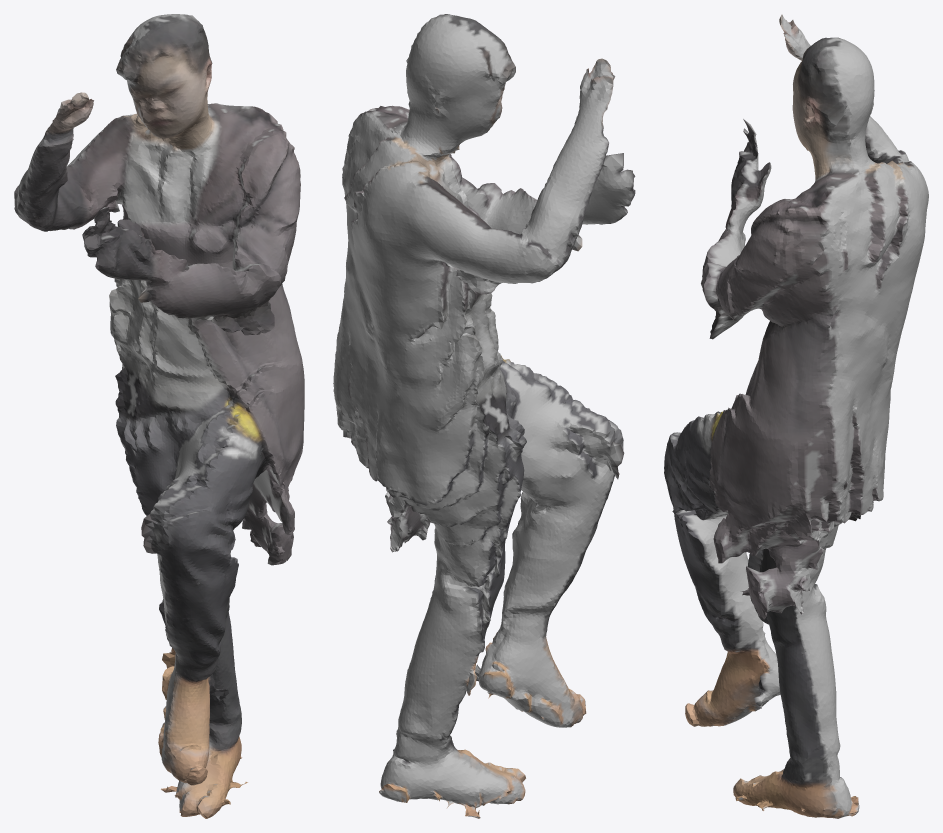
Rendered from 0002_view_elev+00_00_textured.glb.
3 views of the same model, side by side, from view 1: azimuth 30°, elevation 25°; view 2: azimuth 150°, elevation 25°; view 3: azimuth 270°, elevation 25° (orthographic). The views are drawn at different scales.
Visible parts, largest first — view 1: 0002_view_elev+00_00_merged.obj; view 2: 0002_view_elev+00_00_merged.obj; view 3: 0002_view_elev+00_00_merged.obj.
Boxes of the visible parts, <box> form: 0002_view_elev+00_00_merged.obj: <box>14,14,304,818</box>; 0002_view_elev+00_00_merged.obj: <box>333,14,635,818</box>; 0002_view_elev+00_00_merged.obj: <box>664,14,928,818</box>.
Bounding box in the file's own units: 0.6372 × 1.84 × 0.5784.
